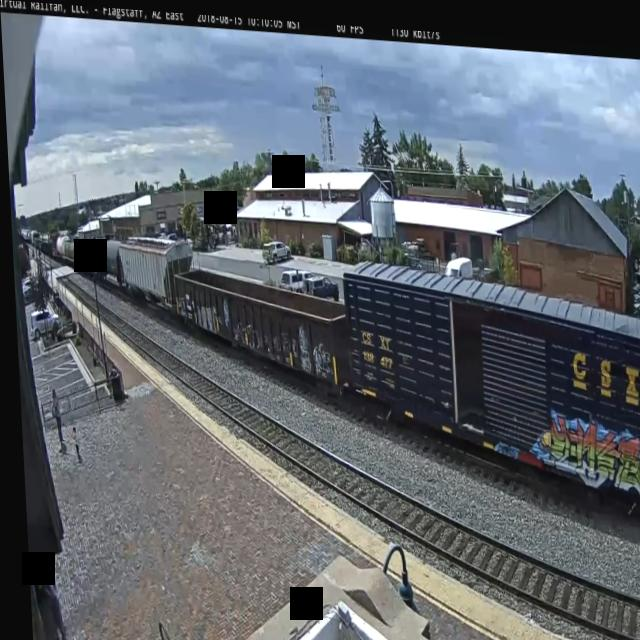boxcar: (332, 240, 640, 514)
gondola: (166, 253, 349, 396)
hopper: (115, 230, 194, 313)
